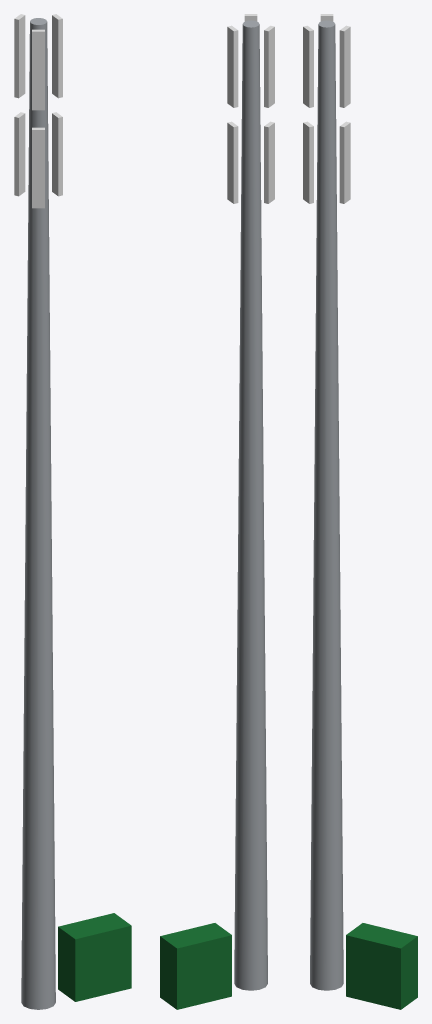
The model's file is energy.plant.mast_telecom.glb.
The picture shows the model from 3 angles, left to right: view 1: azimuth 30°, elevation 25°; view 2: azimuth 210°, elevation 25°; view 3: azimuth 330°, elevation 25°; orthographic projection. The views are drawn at different scales.
Visible parts, largest first — view 1: main__steel_galvanised, main__plastic_white, main__plastic_green; view 2: main__steel_galvanised, main__plastic_green, main__plastic_white; view 3: main__steel_galvanised, main__plastic_green, main__plastic_white.
Boxes of the visible parts, x1,y1,x2,y2 form: main__steel_galvanised: (21, 18, 55, 1009); main__plastic_white: (14, 14, 62, 208); main__plastic_green: (58, 913, 131, 1001); main__steel_galvanised: (234, 20, 267, 990); main__plastic_green: (160, 923, 231, 1009); main__plastic_white: (227, 14, 274, 203); main__steel_galvanised: (310, 20, 343, 990); main__plastic_green: (346, 923, 417, 1009); main__plastic_white: (303, 14, 350, 203).
Bounding box in the file's own units: 2.66 × 25 × 1.12.
